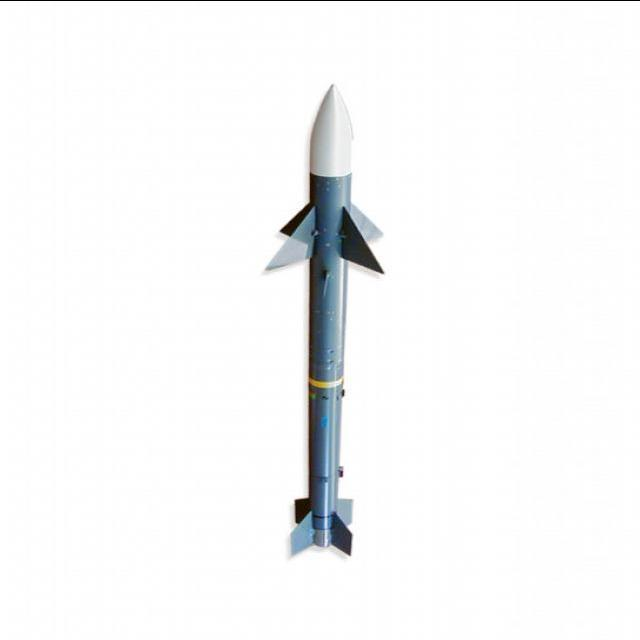missile: (270, 83, 383, 557)
